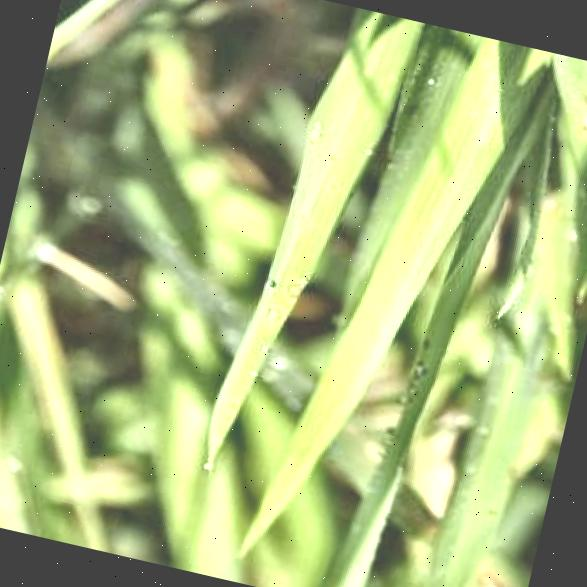Leaf_smut: (254, 115, 372, 344)
